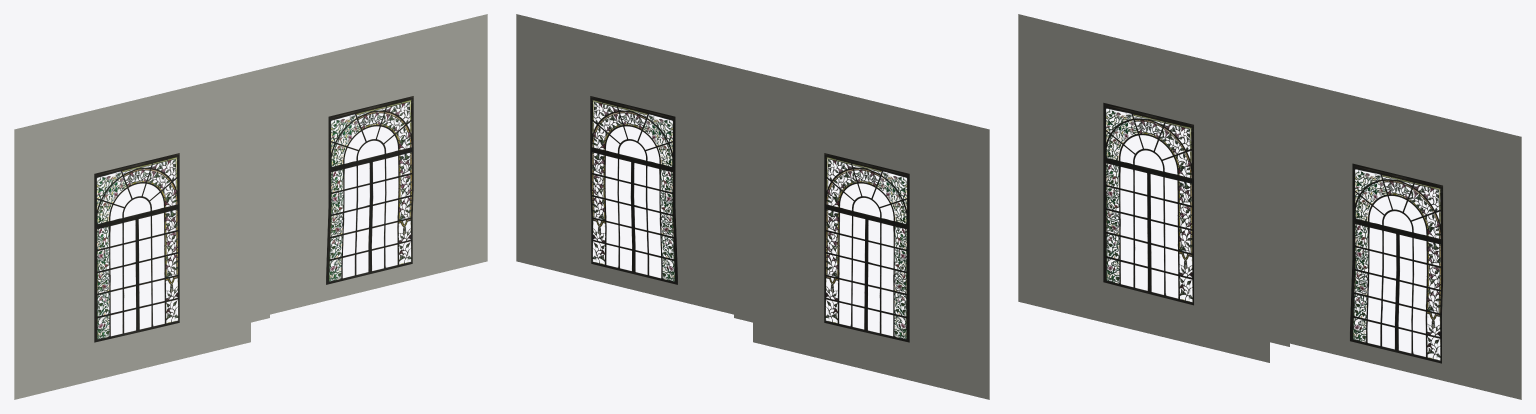
File: B_axis_collider_9.glb
3 renders of one model, left to right at view 1: azimuth 30°, elevation 25°; view 2: azimuth 150°, elevation 25°; view 3: azimuth 330°, elevation 25°, orthographic. The views are drawn at different scales.
Visible parts, largest first — view 1: B_Axis_wall_collide.9; view 2: B_Axis_wall_collide.9; view 3: B_Axis_wall_collide.9.
Part boxes in pixels (x1,y1,x2,y2): B_Axis_wall_collide.9: (14,14,487,399); B_Axis_wall_collide.9: (516,14,989,399); B_Axis_wall_collide.9: (1018,14,1521,399).
Size of the model in its own units: 10.63 by 5.81 by 0.
1 material, 1 textured.
